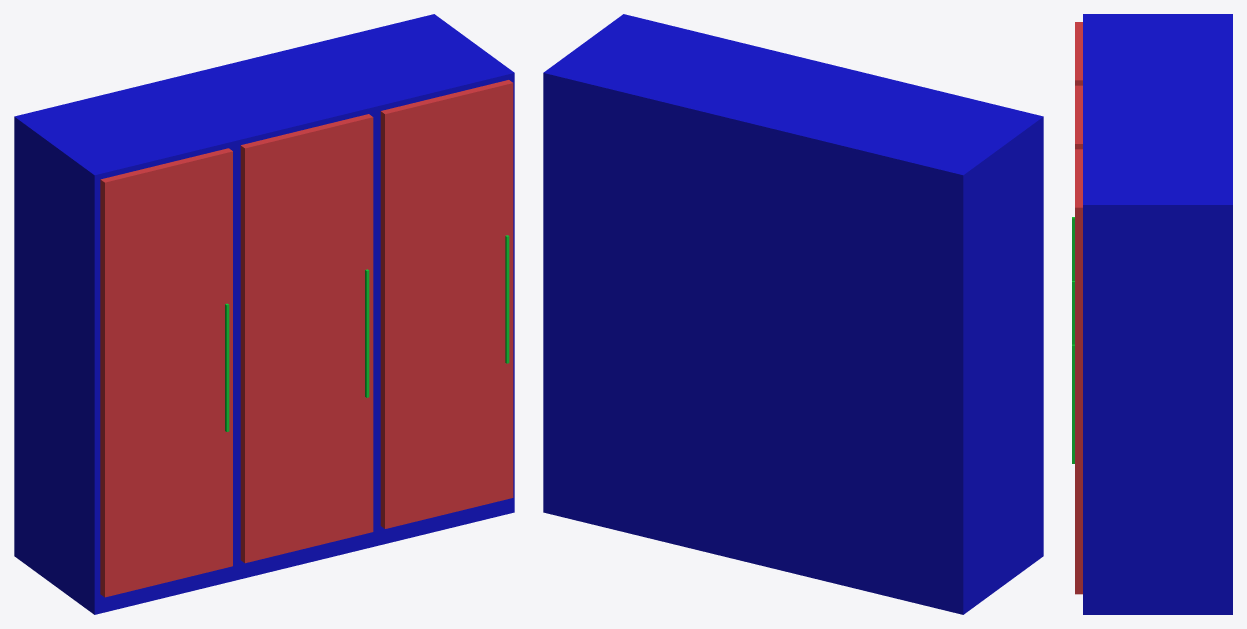
File: высокий шкаф.fbx
3 views of the same model, side by side, from view 1: azimuth 30°, elevation 25°; view 2: azimuth 150°, elevation 25°; view 3: azimuth 270°, elevation 25° (orthographic). The views are drawn at different scales.
Visible parts, largest first — view 1: Cube.001; view 2: Cube.001; view 3: Cube.001.
Part boxes in pixels (left/top/right/bottom): Cube.001: left=14, top=14, right=514, bottom=614; Cube.001: left=543, top=14, right=1043, bottom=614; Cube.001: left=1072, top=14, right=1232, bottom=614.
Bounding box in the file's own units: 2 × 2 × 0.7111.
